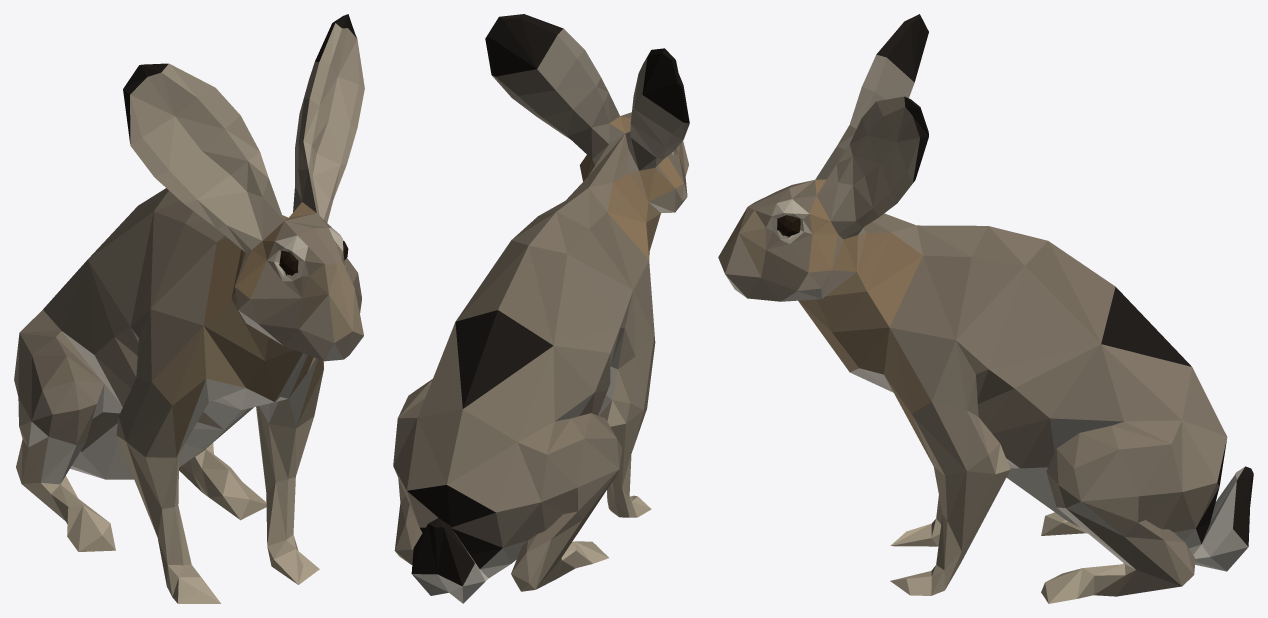
Rendered from jackrabbit.glb.
3 views of the same model, side by side, from view 1: azimuth 30°, elevation 25°; view 2: azimuth 150°, elevation 25°; view 3: azimuth 270°, elevation 25° (orthographic). The views are drawn at different scales.
Parts seen in each view (by area): view 1: lod0; view 2: lod0; view 3: lod0.
Boxes of the visible parts, x1=… form: lod0: x1=14, y1=14, x2=364, y2=603; lod0: x1=393, y1=14, x2=689, y2=603; lod0: x1=718, y1=14, x2=1253, y2=603.
Size of what is drawn, in the model's own units: 0.206 by 0.4318 by 0.413.
